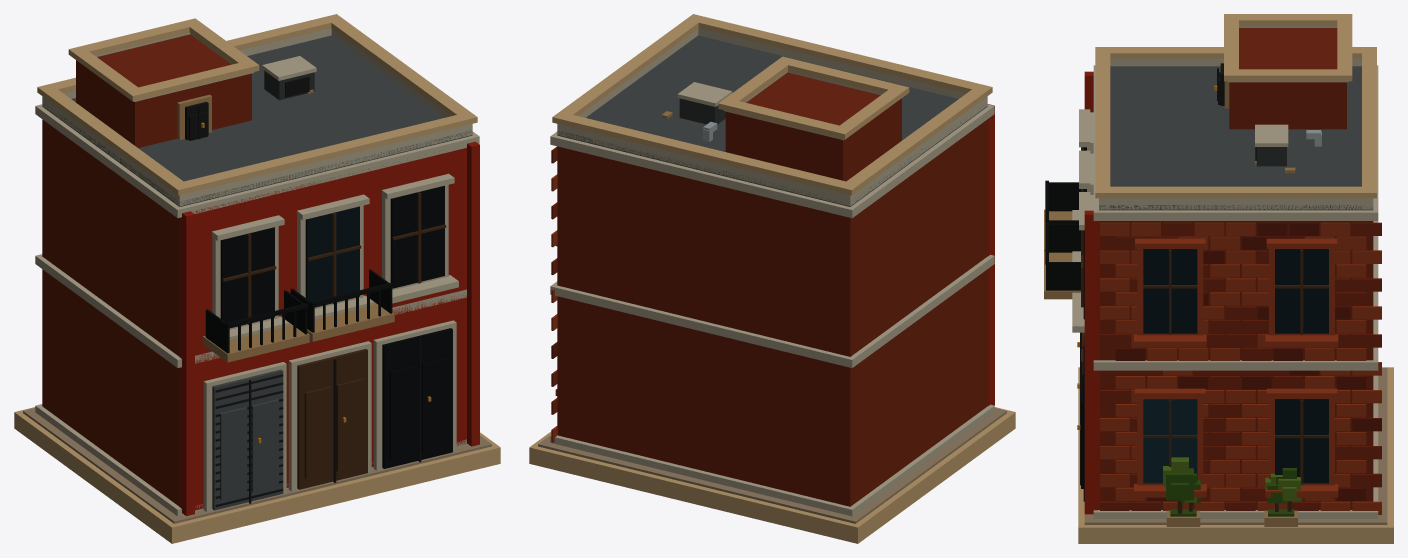
File: SM_Mapa_032.fbx
3 renders of one model, left to right at view 1: azimuth 30°, elevation 25°; view 2: azimuth 150°, elevation 25°; view 3: azimuth 270°, elevation 25°, orthographic.
Parts seen in each view (by area): view 1: SM_Mapa_032; view 2: SM_Mapa_032; view 3: SM_Mapa_032.
Boxes of the visible parts, x1,y1,x2,y2 form: SM_Mapa_032: (14, 14, 500, 543); SM_Mapa_032: (529, 14, 1015, 543); SM_Mapa_032: (1044, 14, 1393, 543).
Bounding box in the file's own units: 8 × 7.17 × 8.73.
